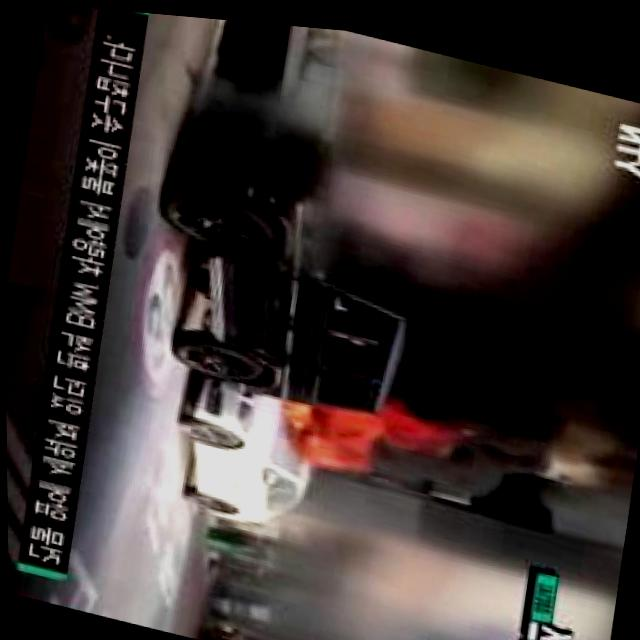Fire: (277, 377, 411, 476)
